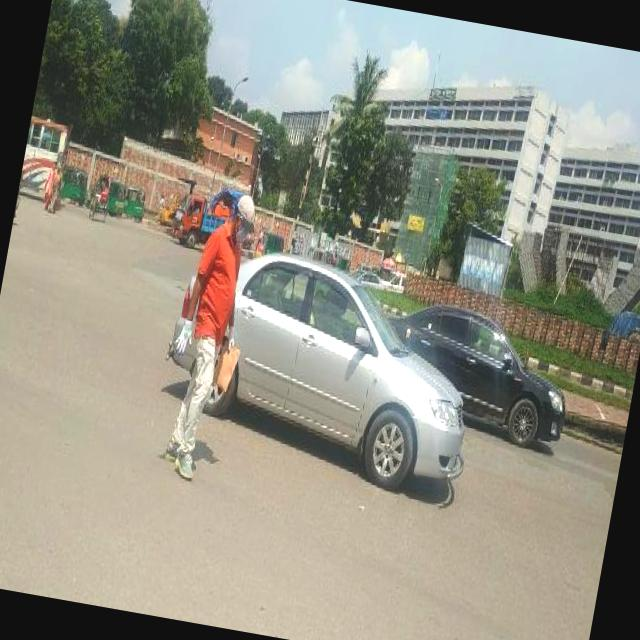car: (209, 246, 502, 506), (373, 302, 581, 449)
motorcycle: (86, 170, 116, 227), (58, 165, 90, 208), (120, 181, 150, 222), (260, 229, 288, 258), (108, 178, 127, 218), (333, 252, 354, 271), (305, 244, 329, 260)
truck: (168, 188, 231, 252)
